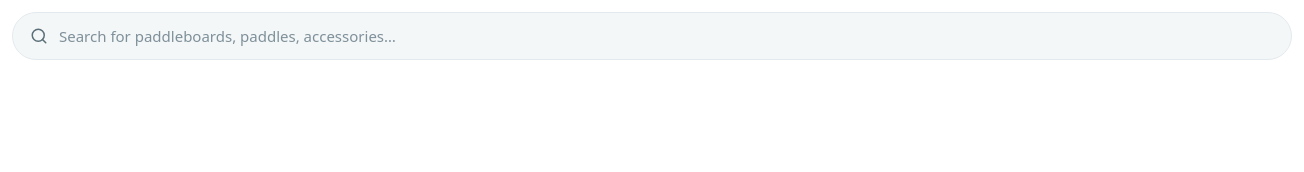
Test: SearchBox › tells when nothing is found
Type "zzz" into the dropdown named "Search the shop" at {"x": 652, "y": 36}, box [12, 12, 1292, 60]
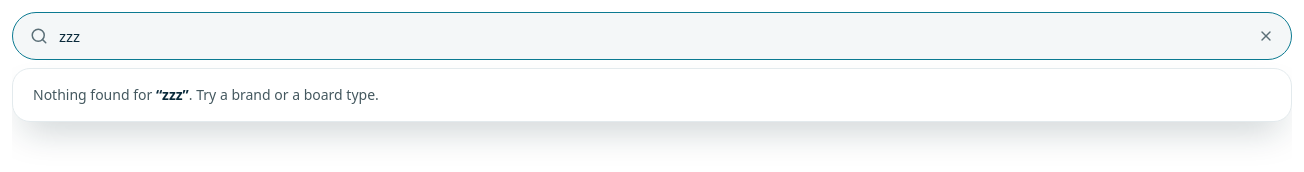
expect the text "Nothing found for “zzz”. Try a brand or a board type." is shown: met, box [33, 85, 379, 104]
